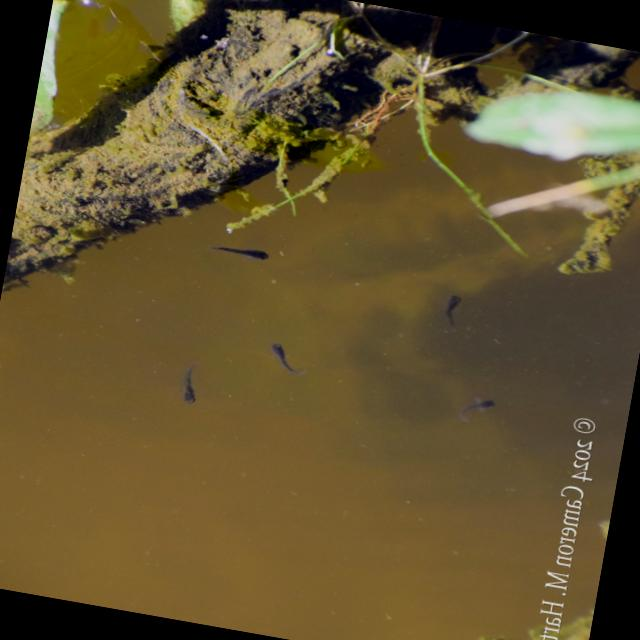Sivrisinek Baligi: (256, 338, 310, 377), (204, 237, 272, 264), (448, 392, 498, 428), (167, 361, 206, 406), (434, 289, 466, 331)
